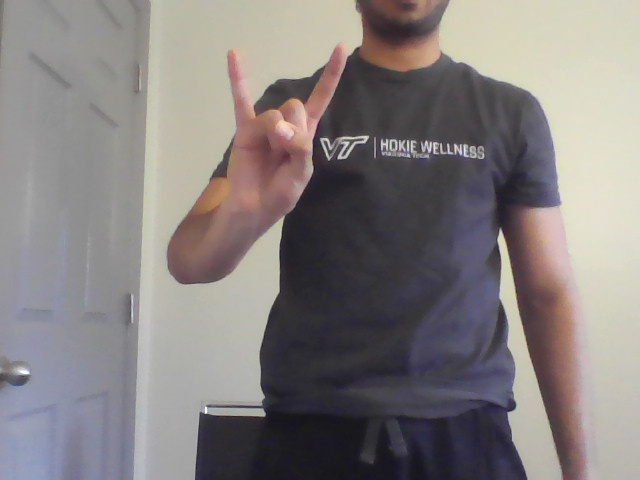help: (218, 39, 350, 217)
